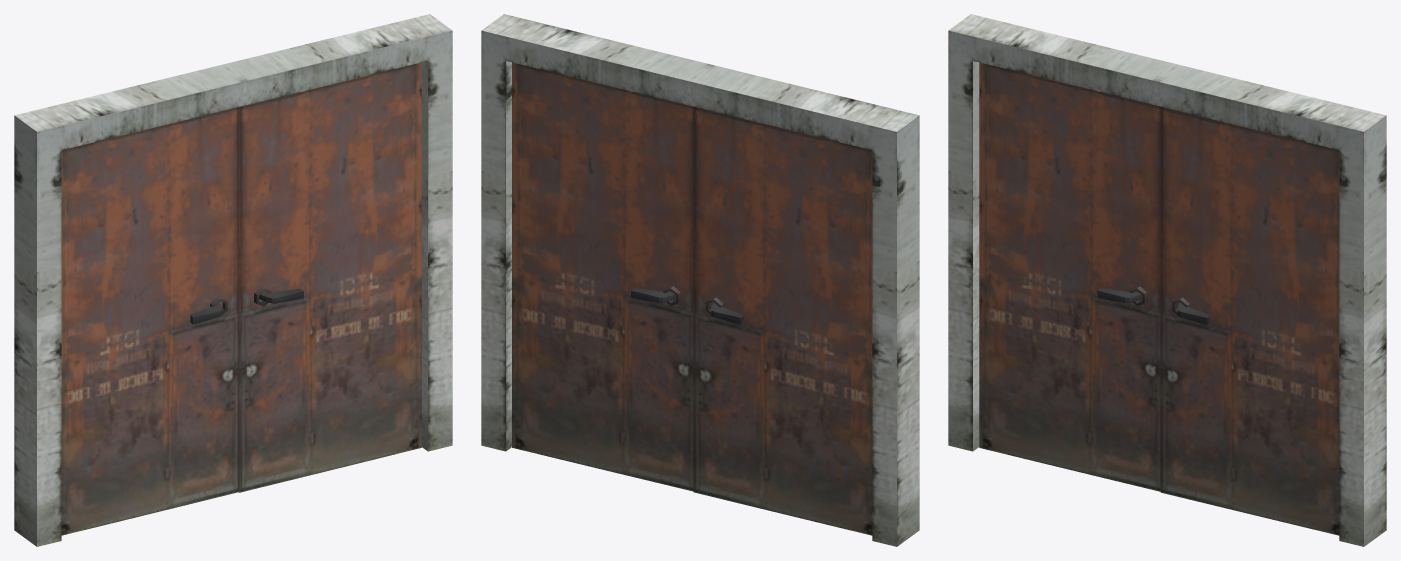
Rendered from jjdaf.glb.
3 renders of one model, left to right at view 1: azimuth 30°, elevation 25°; view 2: azimuth 150°, elevation 25°; view 3: azimuth 330°, elevation 25°, orthographic.
Visible parts, largest first — view 1: Metal Door_007, Metal Door_007.001, Metal Doorframe_005, Door Handle.024, Door Handle.025; view 2: Metal Door_007, Metal Door_007.001, Metal Doorframe_005, Door Handle.024, Door Handle.025; view 3: Metal Door_007.001, Metal Door_007, Metal Doorframe_005, Door Handle.025, Door Handle.024.
Part boxes in pixels (x1,y1,x2,y2): Metal Door_007: [238, 62, 421, 492]; Metal Door_007.001: [61, 107, 238, 535]; Metal Doorframe_005: [14, 14, 452, 546]; Door Handle.024: [254, 287, 303, 306]; Door Handle.025: [190, 297, 227, 324]; Metal Door_007: [512, 62, 693, 491]; Metal Door_007.001: [693, 107, 872, 535]; Metal Doorframe_005: [481, 14, 919, 546]; Door Handle.024: [631, 286, 680, 305]; Door Handle.025: [706, 297, 743, 325]; Metal Door_007.001: [979, 62, 1160, 491]; Metal Door_007: [1160, 107, 1339, 535]; Metal Doorframe_005: [948, 14, 1386, 546]; Door Handle.025: [1097, 286, 1147, 306]; Door Handle.024: [1172, 297, 1209, 325].
Bounding box in the file's own units: 11.51 × 10.99 × 1.46.
Materials: 1 (1 with a texture image).
